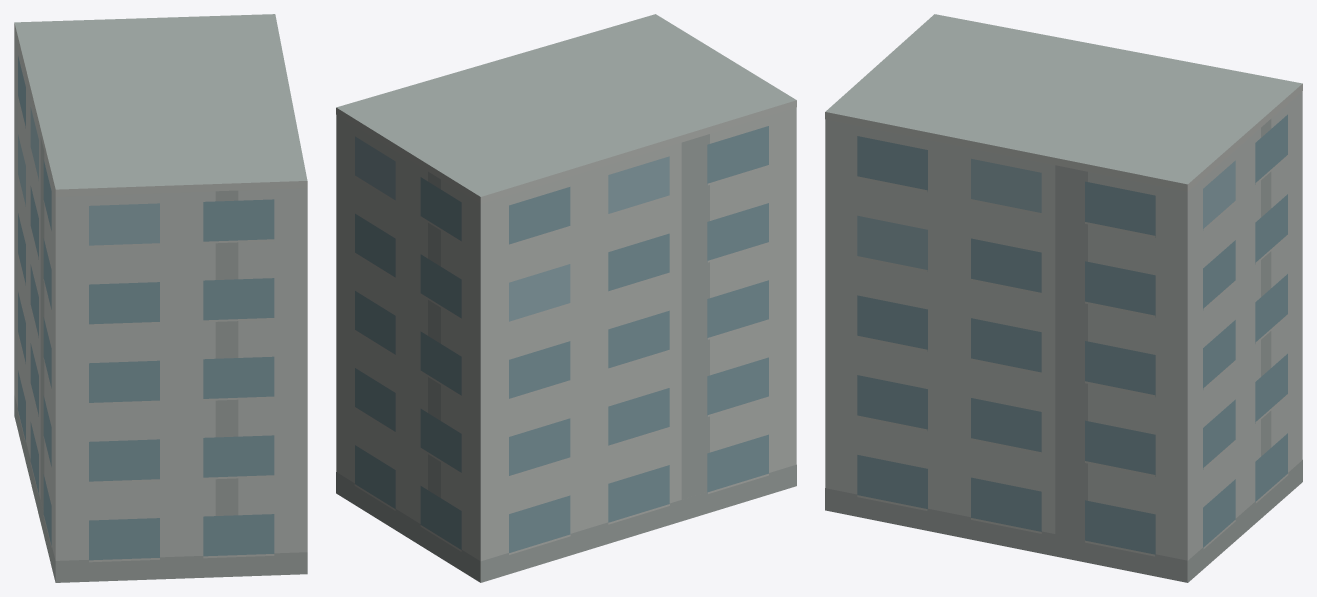
File: survey-upis-32728746.glb
The picture shows the model from 3 angles, left to right: view 1: azimuth 30°, elevation 25°; view 2: azimuth 150°, elevation 25°; view 3: azimuth 270°, elevation 25°; orthographic projection. The views are drawn at different scales.
Visible parts, largest first — view 1: survey-upis-32728746.tmp; view 2: survey-upis-32728746.tmp; view 3: survey-upis-32728746.tmp.
Part boxes in pixels (<box>): survey-upis-32728746.tmp: <box>14,14,307,582</box>; survey-upis-32728746.tmp: <box>336,14,796,582</box>; survey-upis-32728746.tmp: <box>825,14,1302,582</box>.
Bounding box in the file's own units: 12.11 × 13.2 × 14.35.
